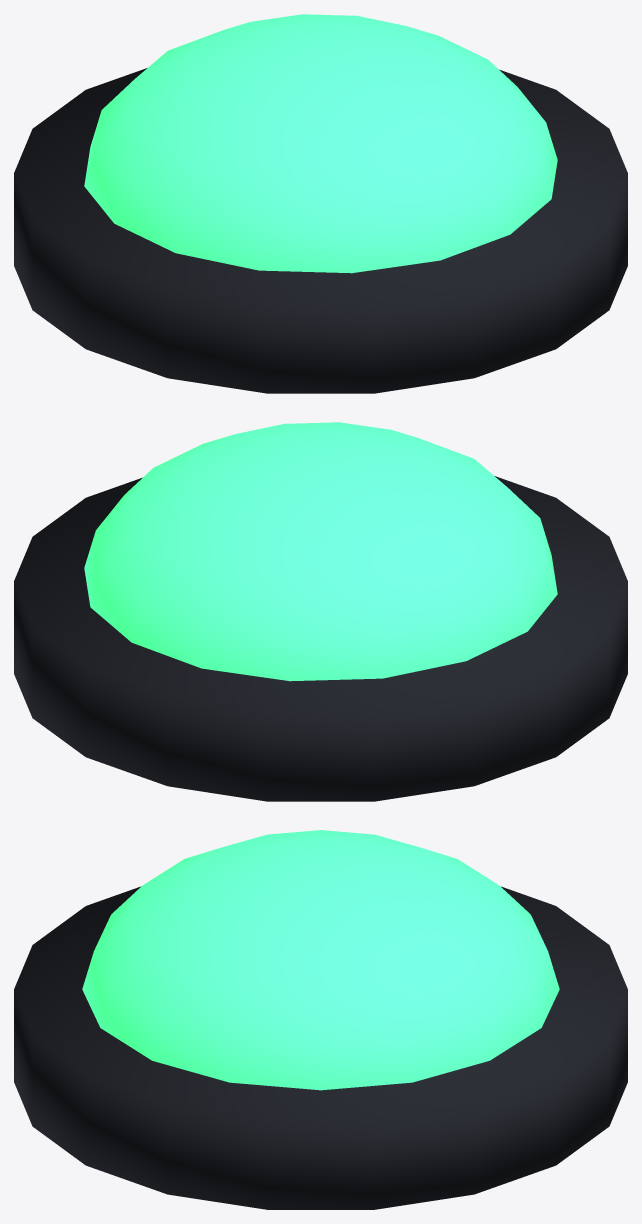
Rendered from TaskBoard_StatusMarker.fbx.
3 views of the same model, one above another, from view 1: azimuth 30°, elevation 25°; view 2: azimuth 150°, elevation 25°; view 3: azimuth 270°, elevation 25° (orthographic).
Visible parts, largest first — view 1: Status_Dome, Status_Rim; view 2: Status_Dome, Status_Rim; view 3: Status_Dome, Status_Rim.
Boxes of the visible parts, <box> form: Status_Dome: <box>84,14,557,273</box>; Status_Rim: <box>14,68,627,393</box>; Status_Dome: <box>84,422,557,681</box>; Status_Rim: <box>14,476,627,801</box>; Status_Dome: <box>82,830,559,1090</box>; Status_Rim: <box>14,886,627,1209</box>.
Bounding box in the file's own units: 1.77 × 0.8 × 1.8.
